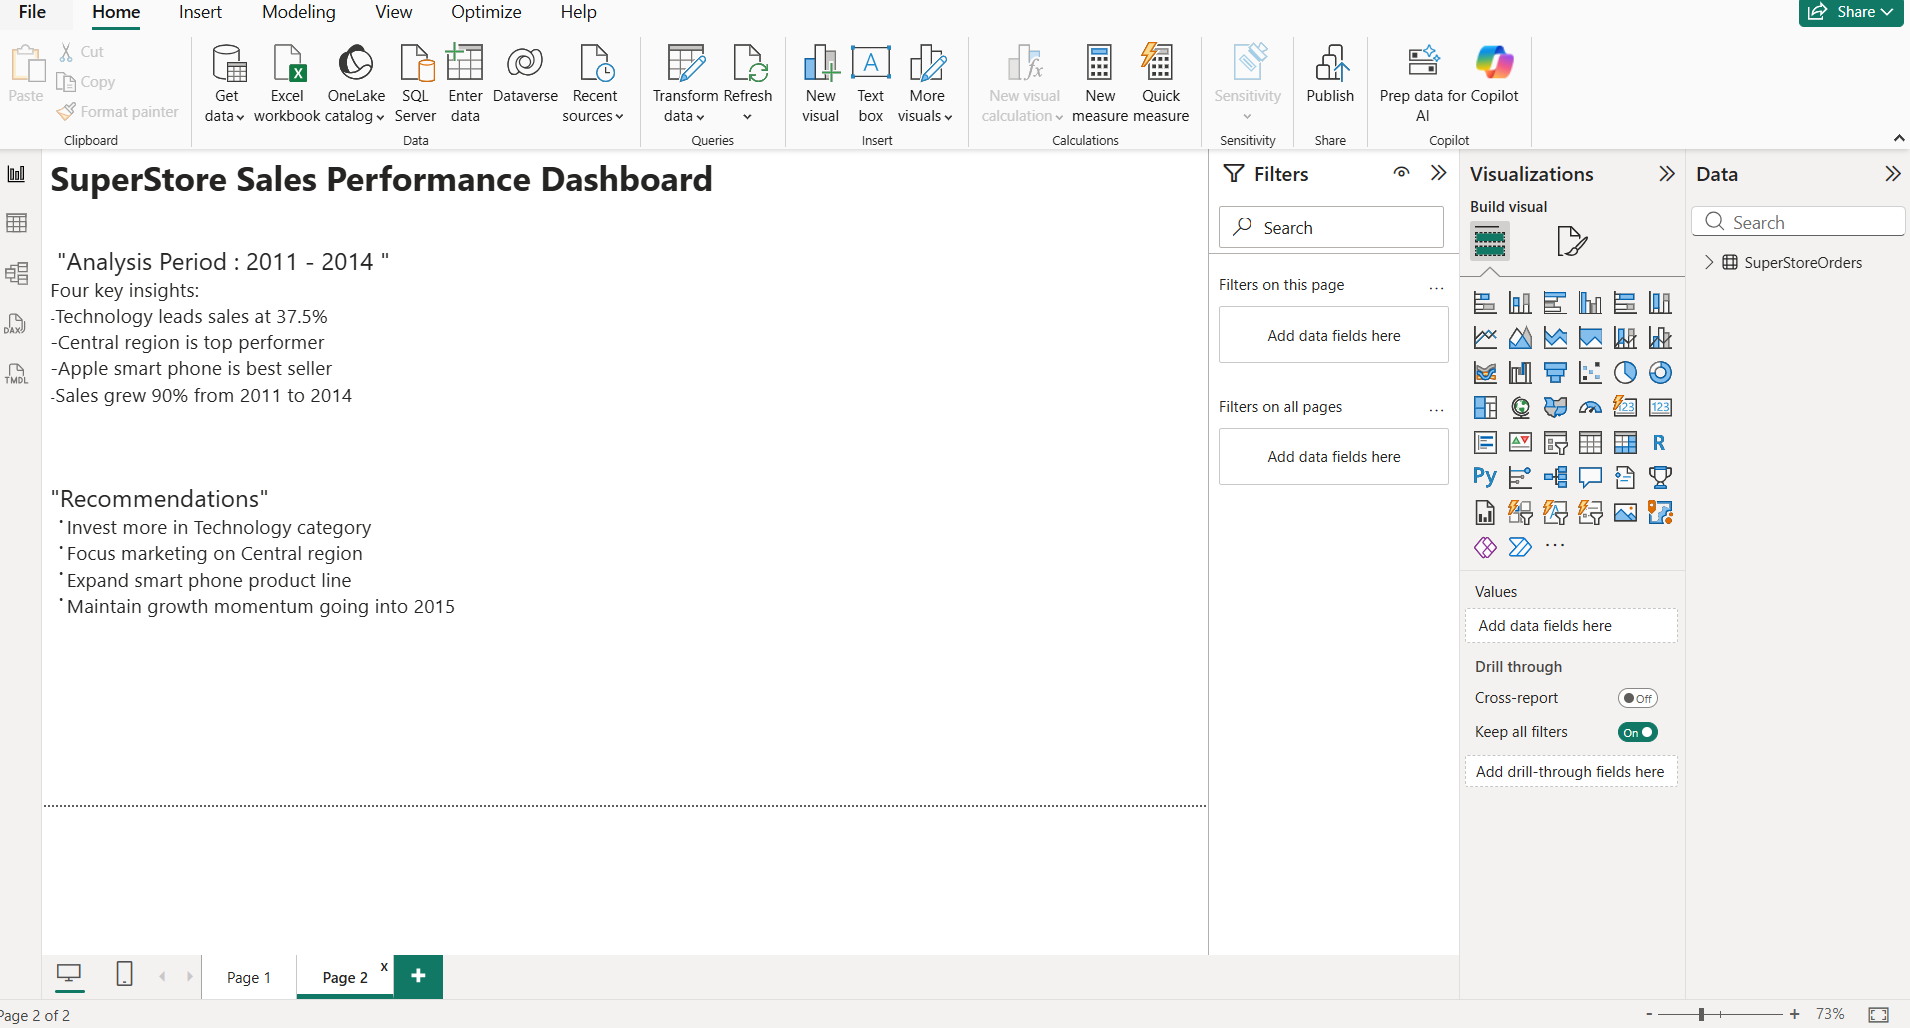

The page's visual inventory and layout, read from the dashboard file:
{"tool":"powerbi","page":{"name":"Page 2","canvas":[1280,720],"ordinal":1},"visuals":[{"type":"textbox","box":[4.1,1.4,1266.6,65.9],"z":0},{"type":"textbox","box":[4.1,98.8,620.2,282.7],"z":1},{"type":"textbox","box":[4.1,359.5,634,267.6],"z":2}]}

Visuals, with their boxes on the page's 1280x720 design canvas (x1, y1, x2, y2). These are canvas units, not pixel positions in the 1910x1028 screenshot, which may show the page scaled, cropped or inside an application window:
textbox: 4 1 1271 67
textbox: 4 99 624 382
textbox: 4 360 638 627
